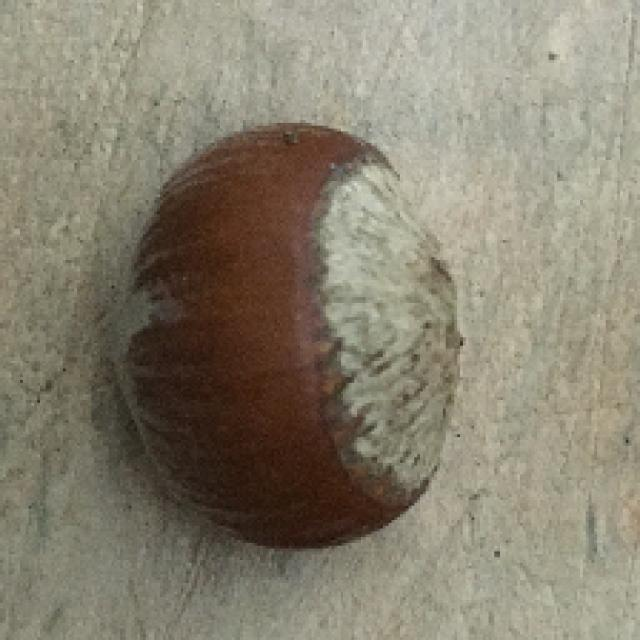qualityHazelnut: (83, 112, 465, 554)
